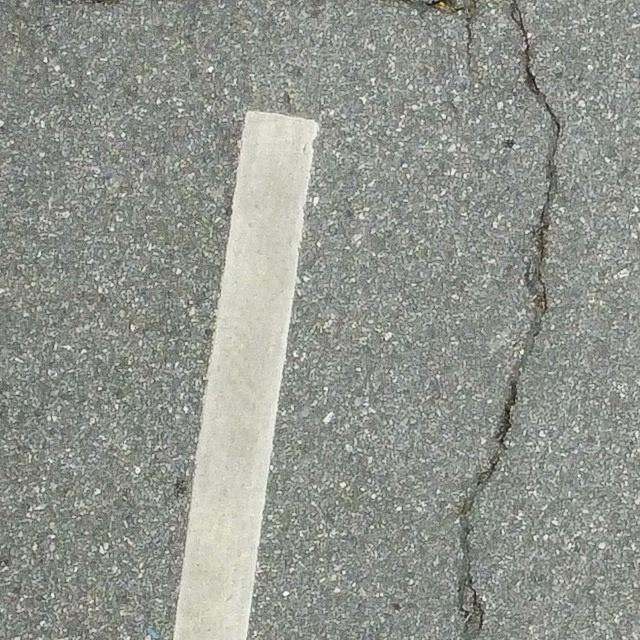LongitudinalCrack: (450, 1, 564, 640)
